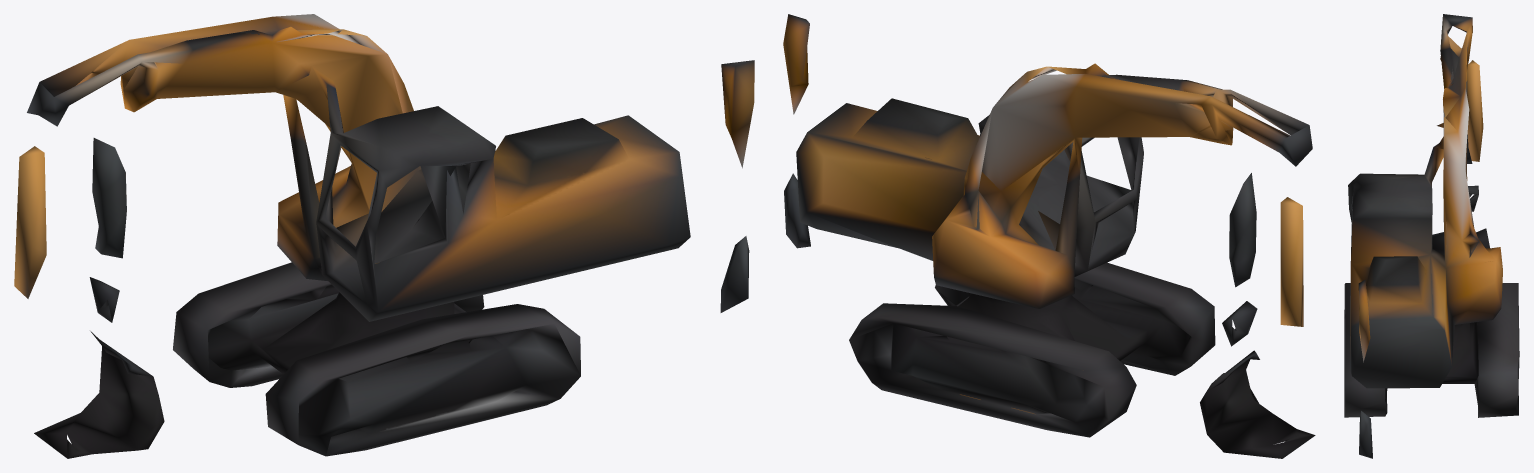
File: 挖机1000面合并顶点平均法线无绑定.fbx
3 views of the same model, side by side, from view 1: azimuth 30°, elevation 25°; view 2: azimuth 150°, elevation 25°; view 3: azimuth 270°, elevation 25° (orthographic). The views are drawn at different scales.
Parts seen in each view (by area): view 1: mesh_uv.obj; view 2: mesh_uv.obj; view 3: mesh_uv.obj.
Part boxes in pixels (x1,y1,x2,y2): mesh_uv.obj: [14, 14, 754, 458]; mesh_uv.obj: [783, 14, 1315, 458]; mesh_uv.obj: [1344, 14, 1519, 458].
Bounding box in the file's own units: 106 × 59.3 × 34.63.
1 material, 1 textured.
